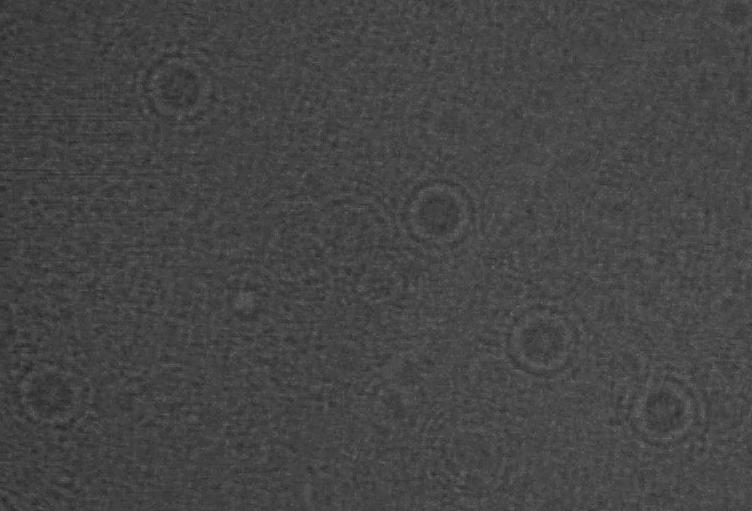bead: (126, 38, 230, 136), (488, 299, 592, 384), (394, 173, 487, 261), (616, 368, 711, 454), (4, 352, 98, 434)
